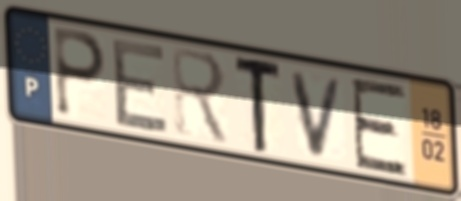E: (348, 76, 410, 179), (110, 36, 172, 136)
P: (51, 23, 109, 122)
R: (168, 42, 234, 150)
T: (233, 55, 284, 156)
V: (288, 69, 348, 162)
